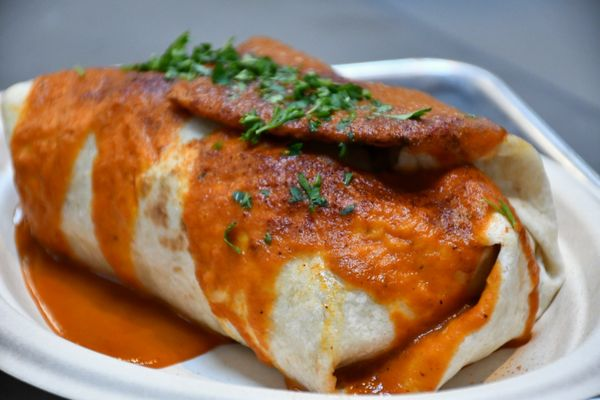soup: (7, 32, 577, 391)
